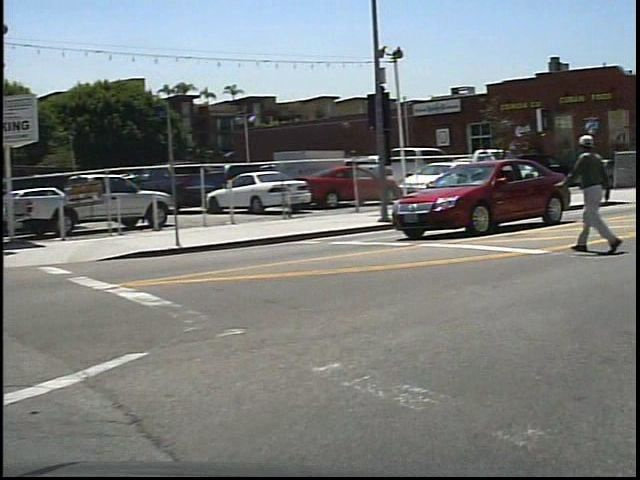person: (569, 118, 624, 260)
